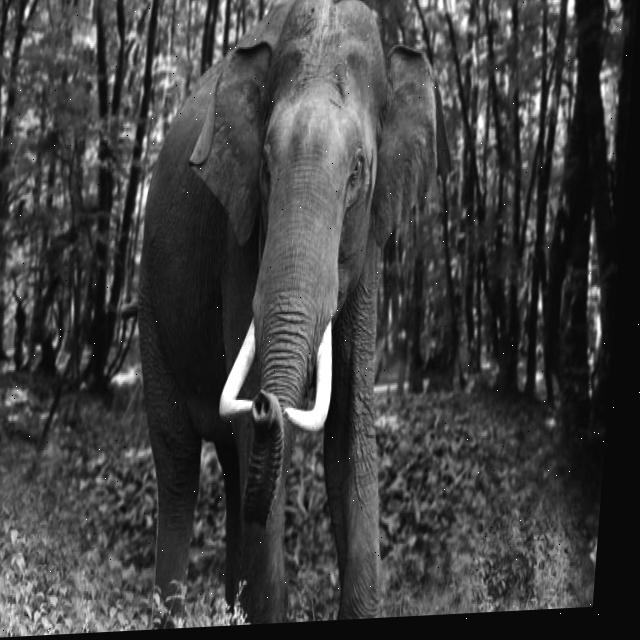Elephant: (110, 0, 466, 630)
